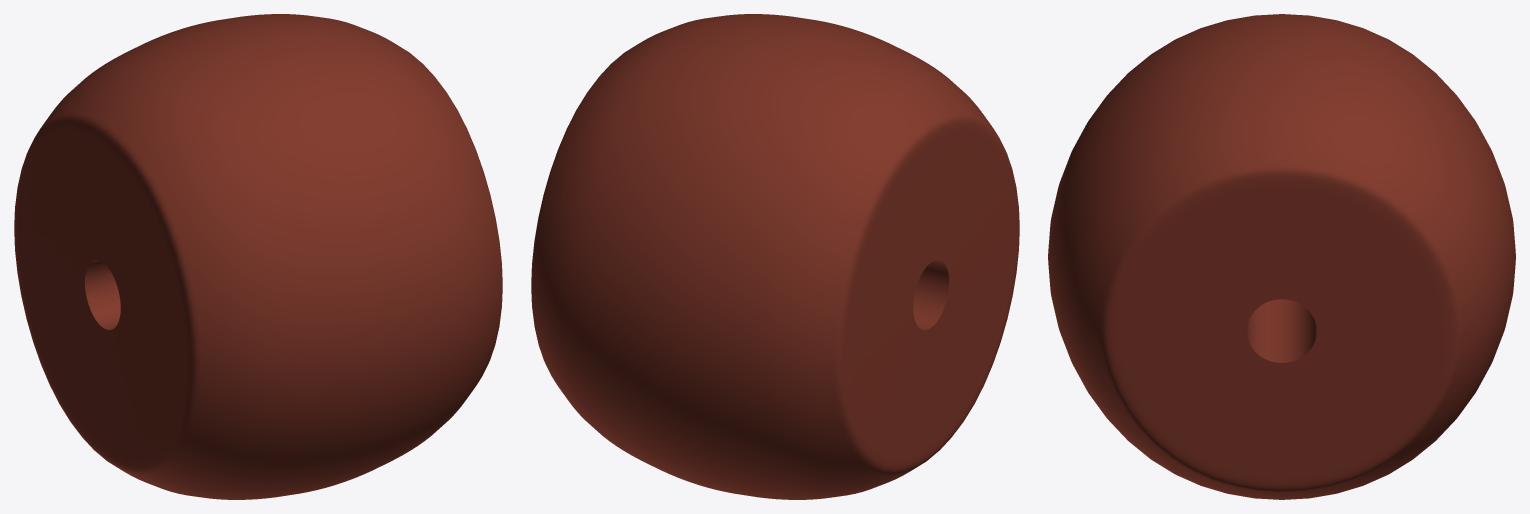
File: 红药片.gltf
3 renders of one model, left to right at view 1: azimuth 30°, elevation 25°; view 2: azimuth 150°, elevation 25°; view 3: azimuth 270°, elevation 25°, orthographic. The views are drawn at different scales.
Visible parts, largest first — view 1: JewelCAD; view 2: JewelCAD; view 3: JewelCAD.
Part boxes in pixels (x1,y1,x2,y2): JewelCAD: (14, 14, 502, 499); JewelCAD: (531, 14, 1019, 499); JewelCAD: (1048, 14, 1515, 499).
Size of the model in its own units: 0.003 by 0.004 by 0.004.
